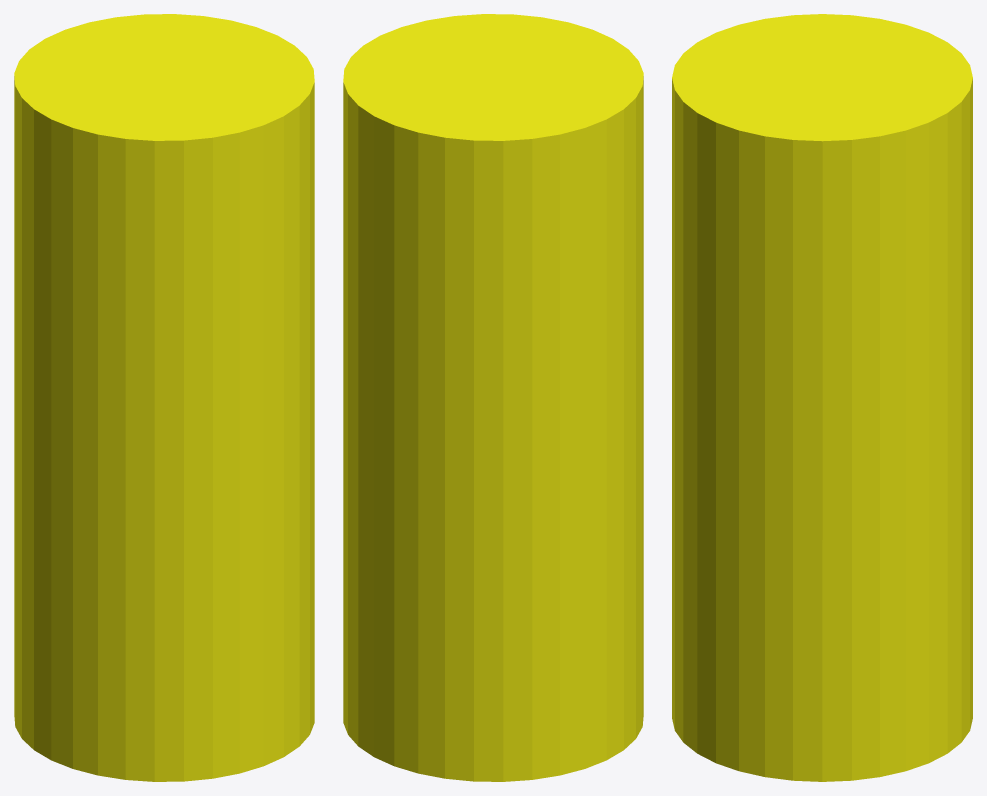
File: Lvl 6 5.fbx
3 renders of one model, left to right at view 1: azimuth 30°, elevation 25°; view 2: azimuth 150°, elevation 25°; view 3: azimuth 270°, elevation 25°, orthographic.
Parts seen in each view (by area): view 1: Cylinder; view 2: Cylinder; view 3: Cylinder.
Boxes of the visible parts, <box> form: Cylinder: <box>14,14,314,781</box>; Cylinder: <box>343,14,643,781</box>; Cylinder: <box>672,14,972,781</box>.
Bounding box in the file's own units: 102 × 240 × 102.
